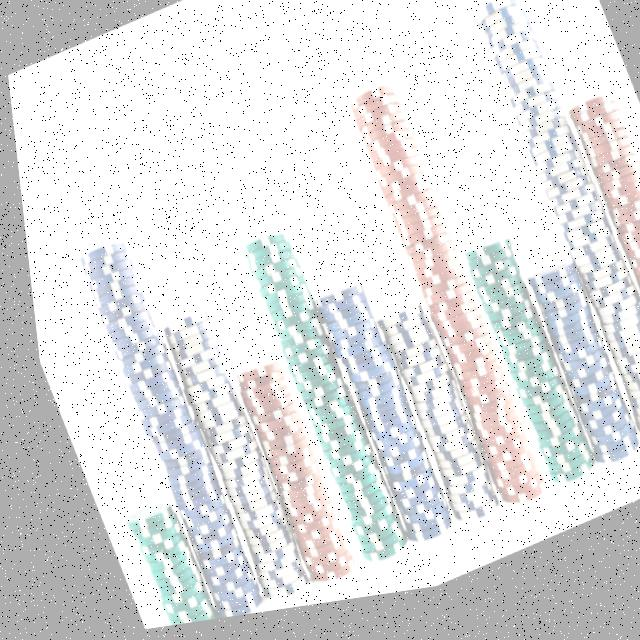Chip: (337, 75, 544, 544), (464, 0, 640, 485), (62, 218, 257, 635), (225, 211, 404, 592), (147, 298, 305, 626), (300, 273, 446, 570), (445, 230, 593, 520), (215, 341, 355, 609), (360, 294, 495, 550), (553, 94, 640, 466), (509, 256, 639, 498), (103, 486, 209, 633)
